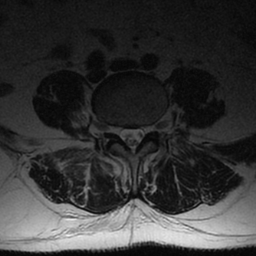CCS_normal: (127, 120, 136, 159)
LFS_stenosis: (144, 114, 153, 141)
LLS_normal: (136, 119, 145, 149)
RFS_normal: (108, 114, 117, 144)
RLS_normal: (117, 117, 127, 151)
